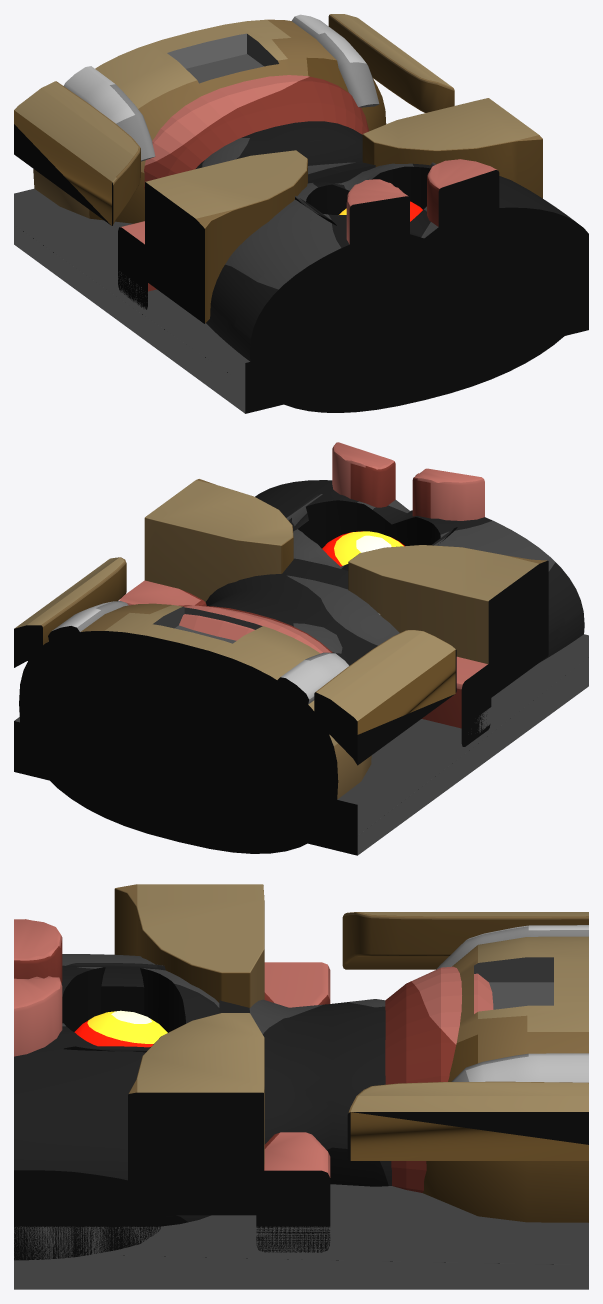
The model's file is tusk_boss_core_45.glb.
The picture shows the model from 3 angles, top to bottom: view 1: azimuth 30°, elevation 25°; view 2: azimuth 150°, elevation 25°; view 3: azimuth 270°, elevation 25°; orthographic projection. The views are drawn at different scales.
Visible parts, largest first — view 1: tusk_boss_core_45; view 2: tusk_boss_core_45; view 3: tusk_boss_core_45.
Part boxes in pixels (x1,y1,x2,y2): tusk_boss_core_45: [14, 14, 588, 413]; tusk_boss_core_45: [14, 442, 588, 855]; tusk_boss_core_45: [14, 884, 588, 1289].
Bounding box in the file's own units: 24 × 14.5 × 28.
